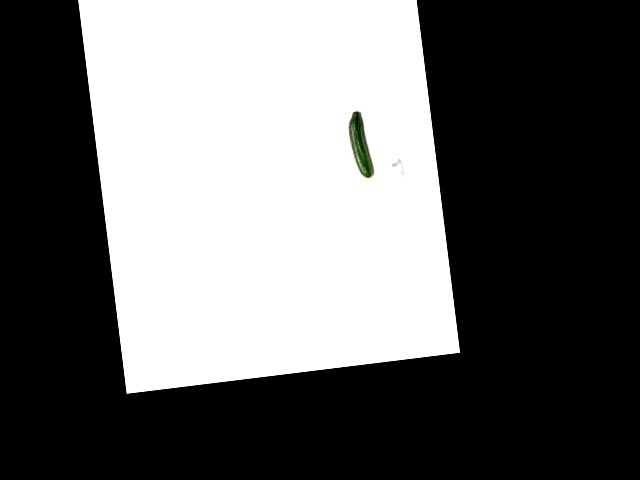cucumber: (347, 110, 374, 180)
